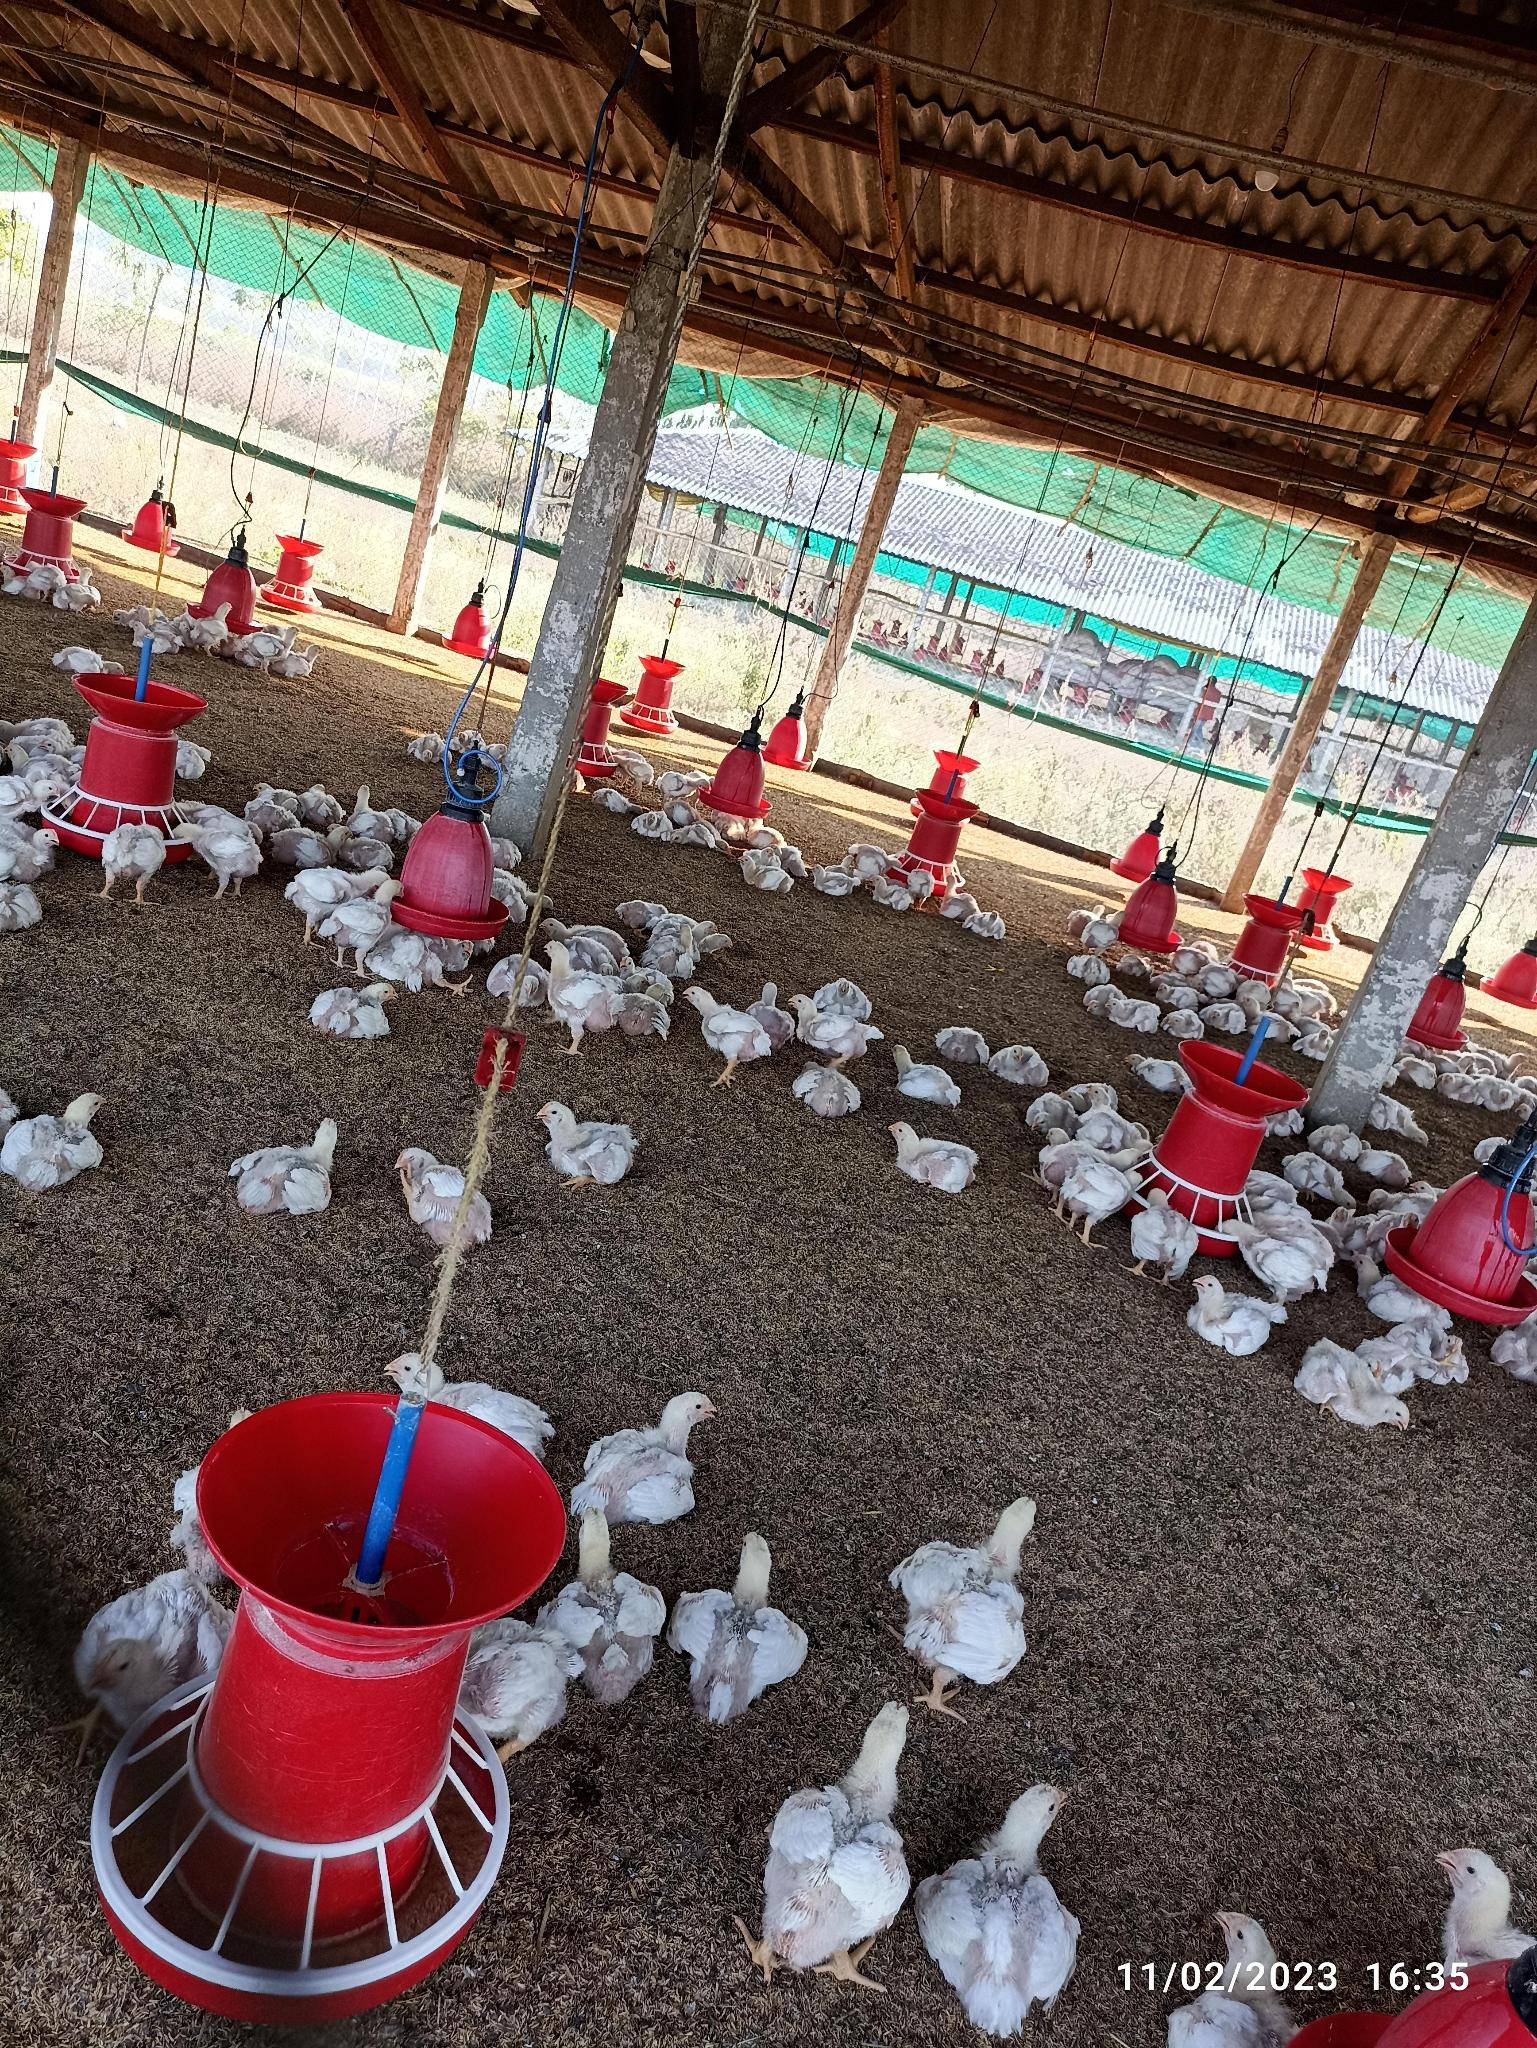Pollos: (752, 1698, 936, 1992), (930, 1774, 1087, 2038), (685, 1535, 801, 1732), (551, 1506, 664, 1707), (891, 1490, 1032, 1649), (68, 1569, 216, 1704), (584, 1383, 718, 1517), (1287, 1343, 1437, 1433), (528, 1093, 660, 1188), (2, 1089, 123, 1185), (234, 1112, 350, 1206), (316, 873, 417, 963), (882, 1122, 982, 1194), (544, 936, 618, 1030), (685, 983, 765, 1067), (1137, 1186, 1209, 1277), (310, 975, 400, 1044), (1062, 1144, 1137, 1218), (1195, 1273, 1271, 1346), (179, 820, 265, 883), (397, 1147, 455, 1233), (890, 1046, 959, 1109), (103, 820, 161, 886), (802, 1062, 862, 1122), (2, 823, 57, 884), (247, 778, 302, 831), (993, 1034, 1046, 1083), (191, 602, 236, 655), (744, 859, 802, 897), (245, 626, 304, 665), (617, 896, 673, 933), (793, 988, 825, 1049), (1313, 1120, 1366, 1157), (65, 566, 105, 610), (631, 809, 676, 847), (822, 980, 880, 1007), (906, 870, 940, 910), (969, 909, 1016, 938), (1069, 951, 1106, 984), (1171, 1010, 1209, 1038)
